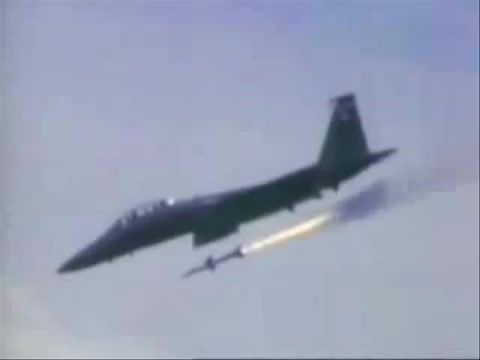aeroplane: (58, 95, 397, 277)
